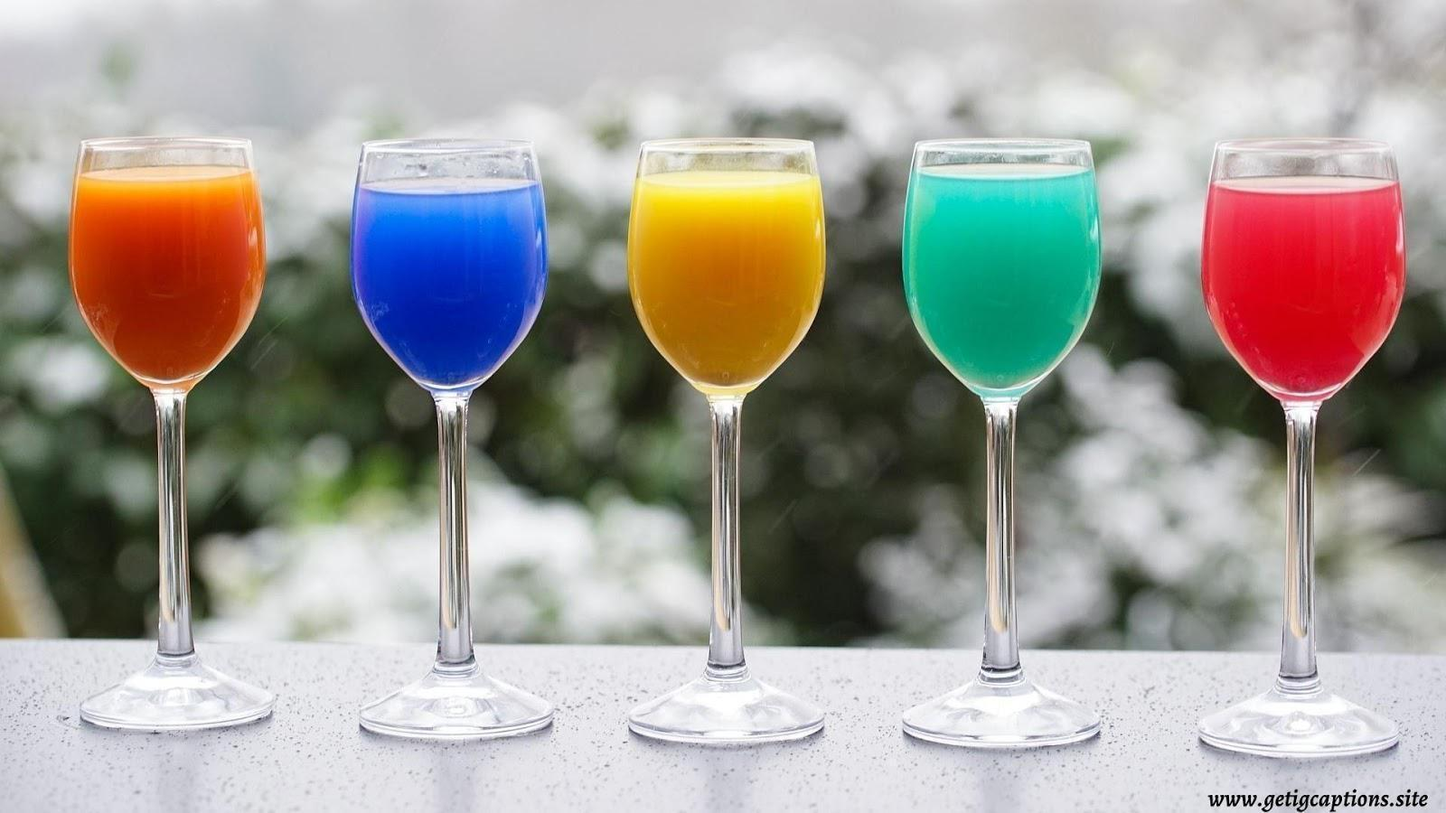glass-wine: (1187, 132, 1416, 764), (889, 131, 1113, 761), (615, 131, 832, 759), (341, 131, 560, 747), (61, 131, 276, 737)
